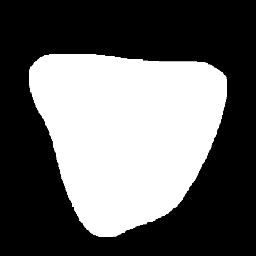mass: (33, 57, 223, 236)
